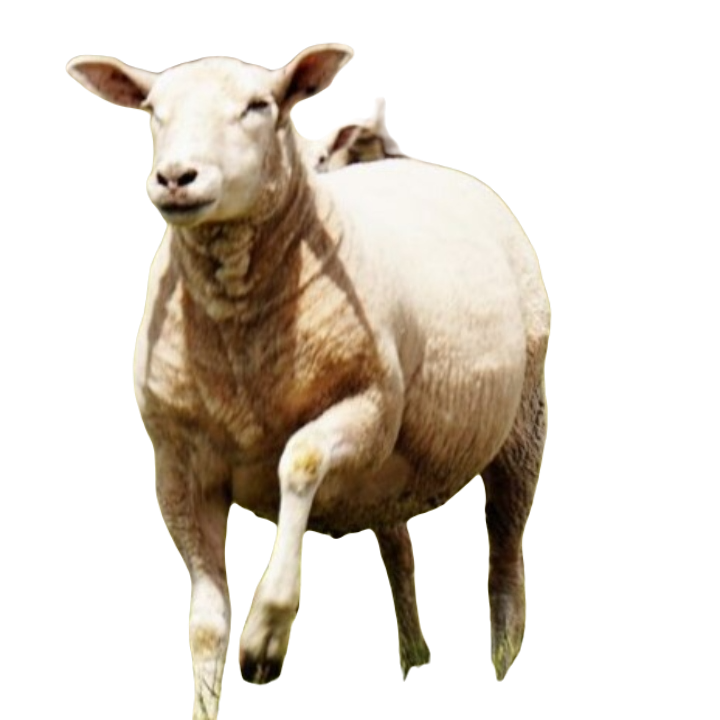Sheep: (61, 36, 559, 719)
